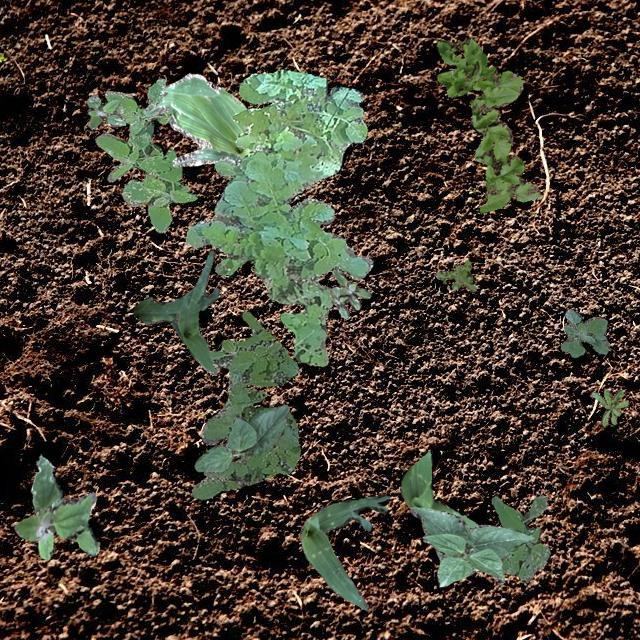crop: (132, 250, 218, 374), (298, 494, 386, 610), (143, 72, 250, 166), (410, 506, 534, 586), (400, 450, 478, 560), (194, 404, 288, 472)
weed: (184, 68, 372, 366), (190, 311, 300, 498), (436, 36, 540, 212), (94, 76, 195, 232), (13, 454, 98, 558), (490, 494, 550, 582), (560, 308, 608, 356), (330, 268, 370, 318), (590, 388, 628, 426), (86, 94, 125, 128), (436, 258, 474, 290)
